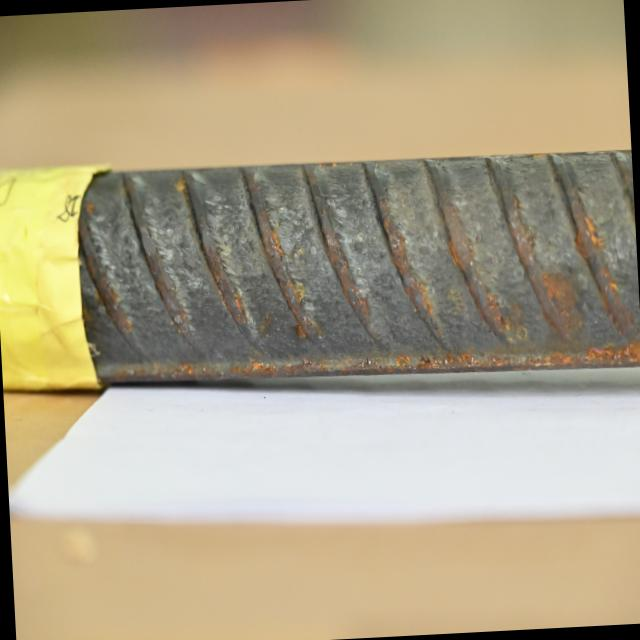ribbed bar: (72, 127, 640, 404)
